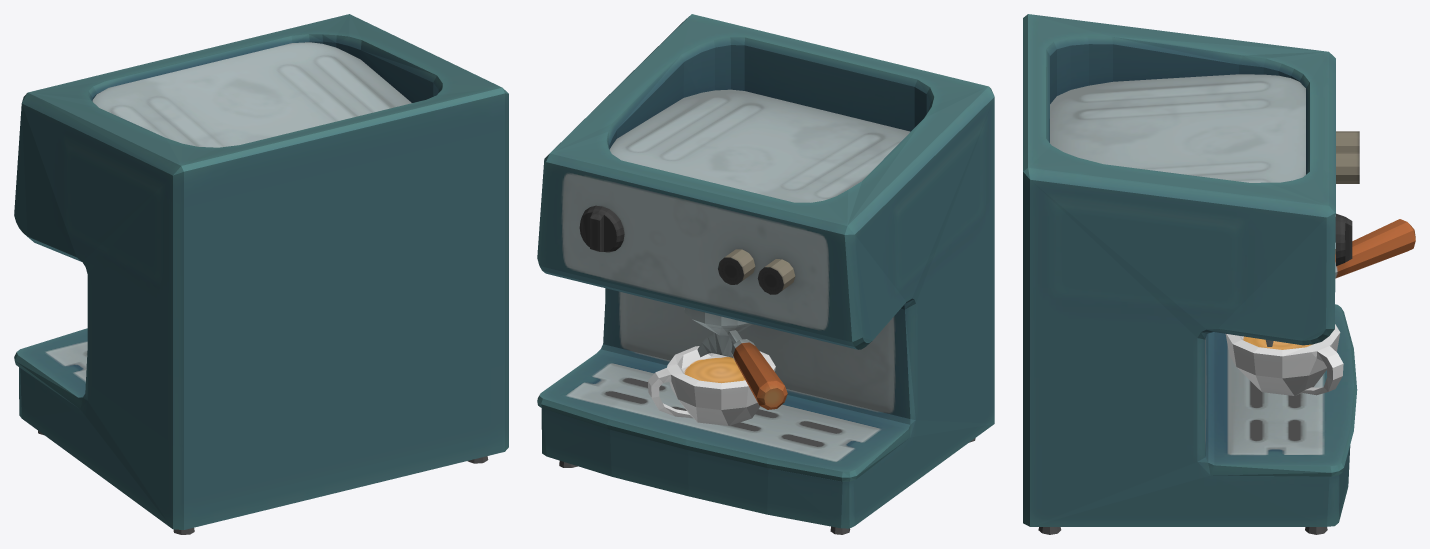
Rendered from P_CoffeeMachine_001_S1_M01.obj.
The picture shows the model from 3 angles, left to right: view 1: azimuth 30°, elevation 25°; view 2: azimuth 150°, elevation 25°; view 3: azimuth 270°, elevation 25°; orthographic projection. The views are drawn at different scales.
Bounding box in the file's own units: 0.7378 × 0.754 × 0.7263.
2 materials, 2 textured.
